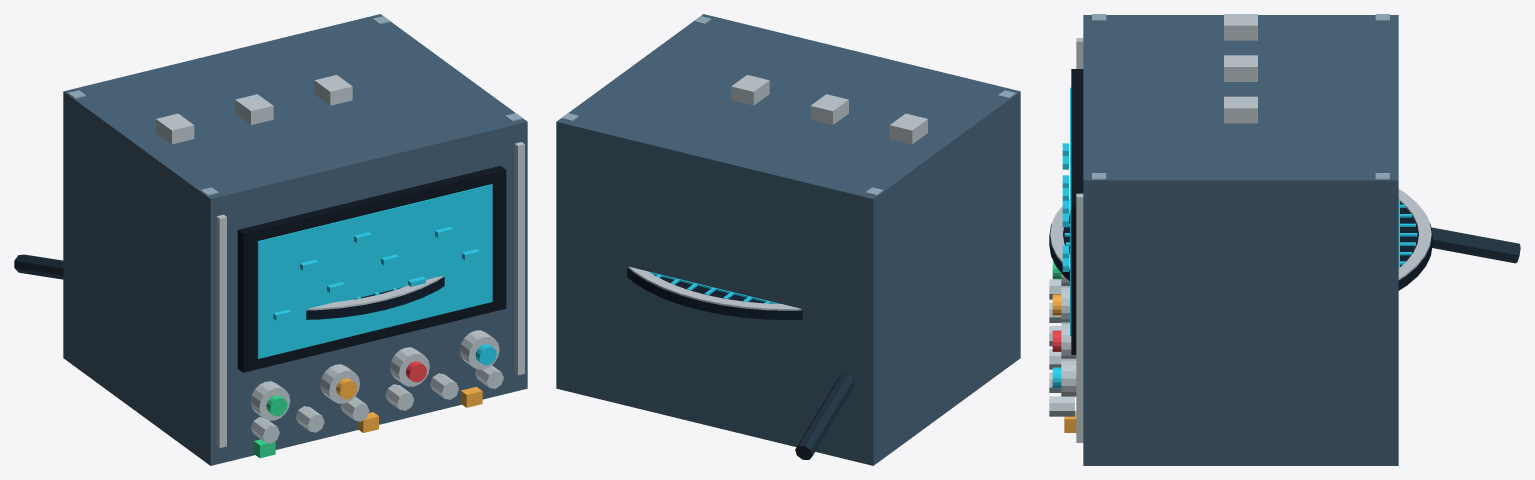
The model's file is 64_L80_OpticalCalibrationReferenceCoupon.fbx.
3 renders of one model, left to right at view 1: azimuth 30°, elevation 25°; view 2: azimuth 150°, elevation 25°; view 3: azimuth 270°, elevation 25°, orthographic. The views are drawn at different scales.
Visible parts, largest first — view 1: OpticalCalibrationReferenceCoupon, OpticalCalibrationReferenceCoupon_Part_0035, OpticalCalibrationReferenceCoupon_Part_0036; view 2: OpticalCalibrationReferenceCoupon, OpticalCalibrationReferenceCoupon_Part_0035, OpticalCalibrationReferenceCoupon_Part_0036; view 3: OpticalCalibrationReferenceCoupon, OpticalCalibrationReferenceCoupon_Part_0036, OpticalCalibrationReferenceCoupon_Part_0035.
Boxes of the visible parts, left/top/right/bottom form: OpticalCalibrationReferenceCoupon: left=14, top=14, right=527, bottom=465; OpticalCalibrationReferenceCoupon_Part_0035: left=306, top=277, right=444, bottom=319; OpticalCalibrationReferenceCoupon_Part_0036: left=308, top=276, right=442, bottom=310; OpticalCalibrationReferenceCoupon: left=556, top=14, right=1020, bottom=465; OpticalCalibrationReferenceCoupon_Part_0035: left=627, top=268, right=802, bottom=320; OpticalCalibrationReferenceCoupon_Part_0036: left=628, top=266, right=801, bottom=310; OpticalCalibrationReferenceCoupon: left=1049, top=14, right=1520, bottom=465; OpticalCalibrationReferenceCoupon_Part_0036: left=1050, top=189, right=1431, bottom=279; OpticalCalibrationReferenceCoupon_Part_0035: left=1049, top=202, right=1432, bottom=290.
Size of the model in its own units: 92 by 77.86 by 111.
